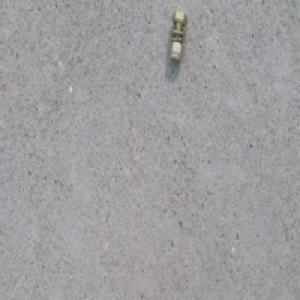BoltNutSet: (166, 10, 189, 60)
